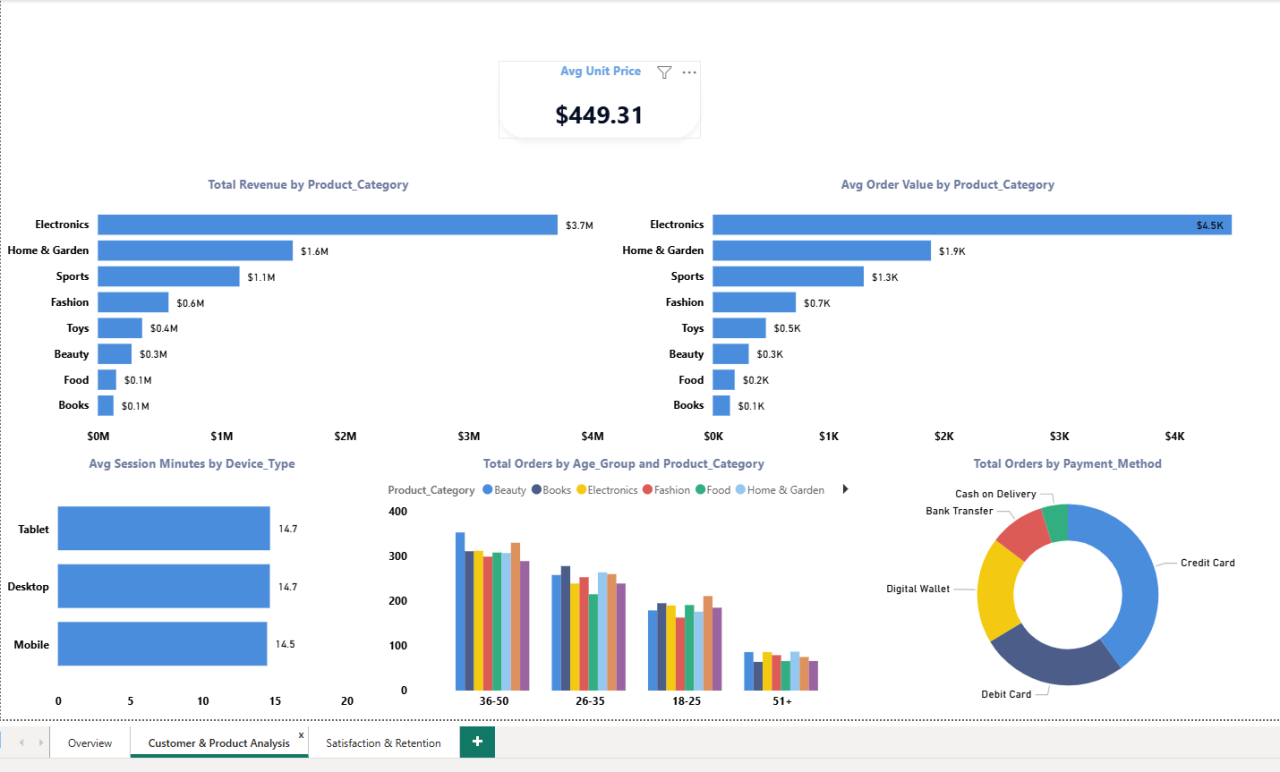

This screenshot's page, from the dashboard's own definition file:
{"tool":"powerbi","page":{"name":"Customer & Product Analysis","canvas":[1280,720],"ordinal":1},"visuals":[{"type":"clusteredBarChart","fields":{"Category":["Final_Predictions_DM.Product_Category"],"Y":["Final_Predictions_DM.Total Revenue"]},"box":[0,175.5,615.2,279.4],"z":0},{"type":"clusteredColumnChart","fields":{"Category":["Final_Predictions_DM.Age_Group"],"Y":["Final_Predictions_DM.Total Orders"],"Series":["Final_Predictions_DM.Product_Category"]},"box":[382.4,454.9,481.8,265.1],"z":1000},{"type":"pieChart","fields":{"Y":["Final_Predictions_DM.Total Orders"],"Category":["Final_Predictions_DM.Payment_Method"]},"box":[855.2,454.9,424.5,265.1],"z":2000},{"type":"clusteredBarChart","fields":{"Category":["Final_Predictions_DM.Device_Type"],"Y":["Final_Predictions_DM.Avg Session Minutes"]},"box":[0,454.9,382.4,265.1],"z":3000},{"type":"cardVisual","title":"Avg Unit Price","fields":{"Data":["Final_Predictions_DM.Avg Unit Price"]},"box":[497.9,60.9,202.4,77.9],"z":4000},{"type":"barChart","fields":{"Y":["Final_Predictions_DM.Avg Order Value"],"Category":["Final_Predictions_DM.Product_Category"]},"box":[615.2,175.5,664.5,279.4],"z":5000}]}

Visuals, with their boxes on the page's 1280x720 design canvas (x1, y1, x2, y2). These are canvas units, not pixel positions in the 1280x772 screenshot, which may show the page scaled, cropped or inside an application window:
clusteredBarChart - Final_Predictions_DM.Product_Category x Final_Predictions_DM.Total Revenue: 0 176 615 455
clusteredColumnChart - Final_Predictions_DM.Age_Group x Final_Predictions_DM.Total Orders: 382 455 864 720
pieChart - Final_Predictions_DM.Total Orders x Final_Predictions_DM.Payment_Method: 855 455 1280 720
clusteredBarChart - Final_Predictions_DM.Device_Type x Final_Predictions_DM.Avg Session Minutes: 0 455 382 720
"Avg Unit Price" cardVisual: 498 61 700 139
barChart - Final_Predictions_DM.Avg Order Value x Final_Predictions_DM.Product_Category: 615 176 1280 455
